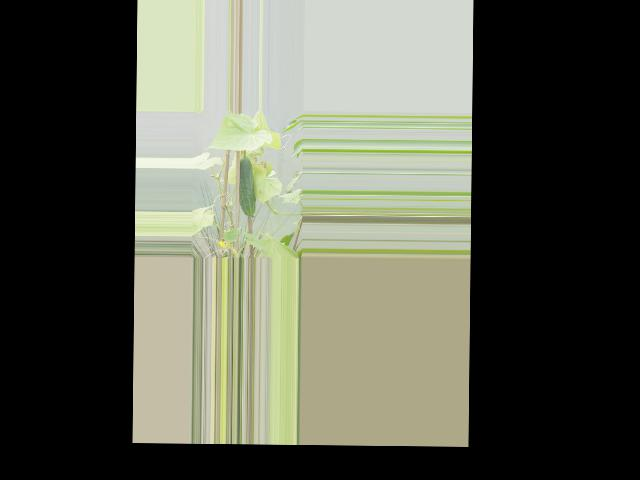cucumber: (238, 157, 256, 217)
